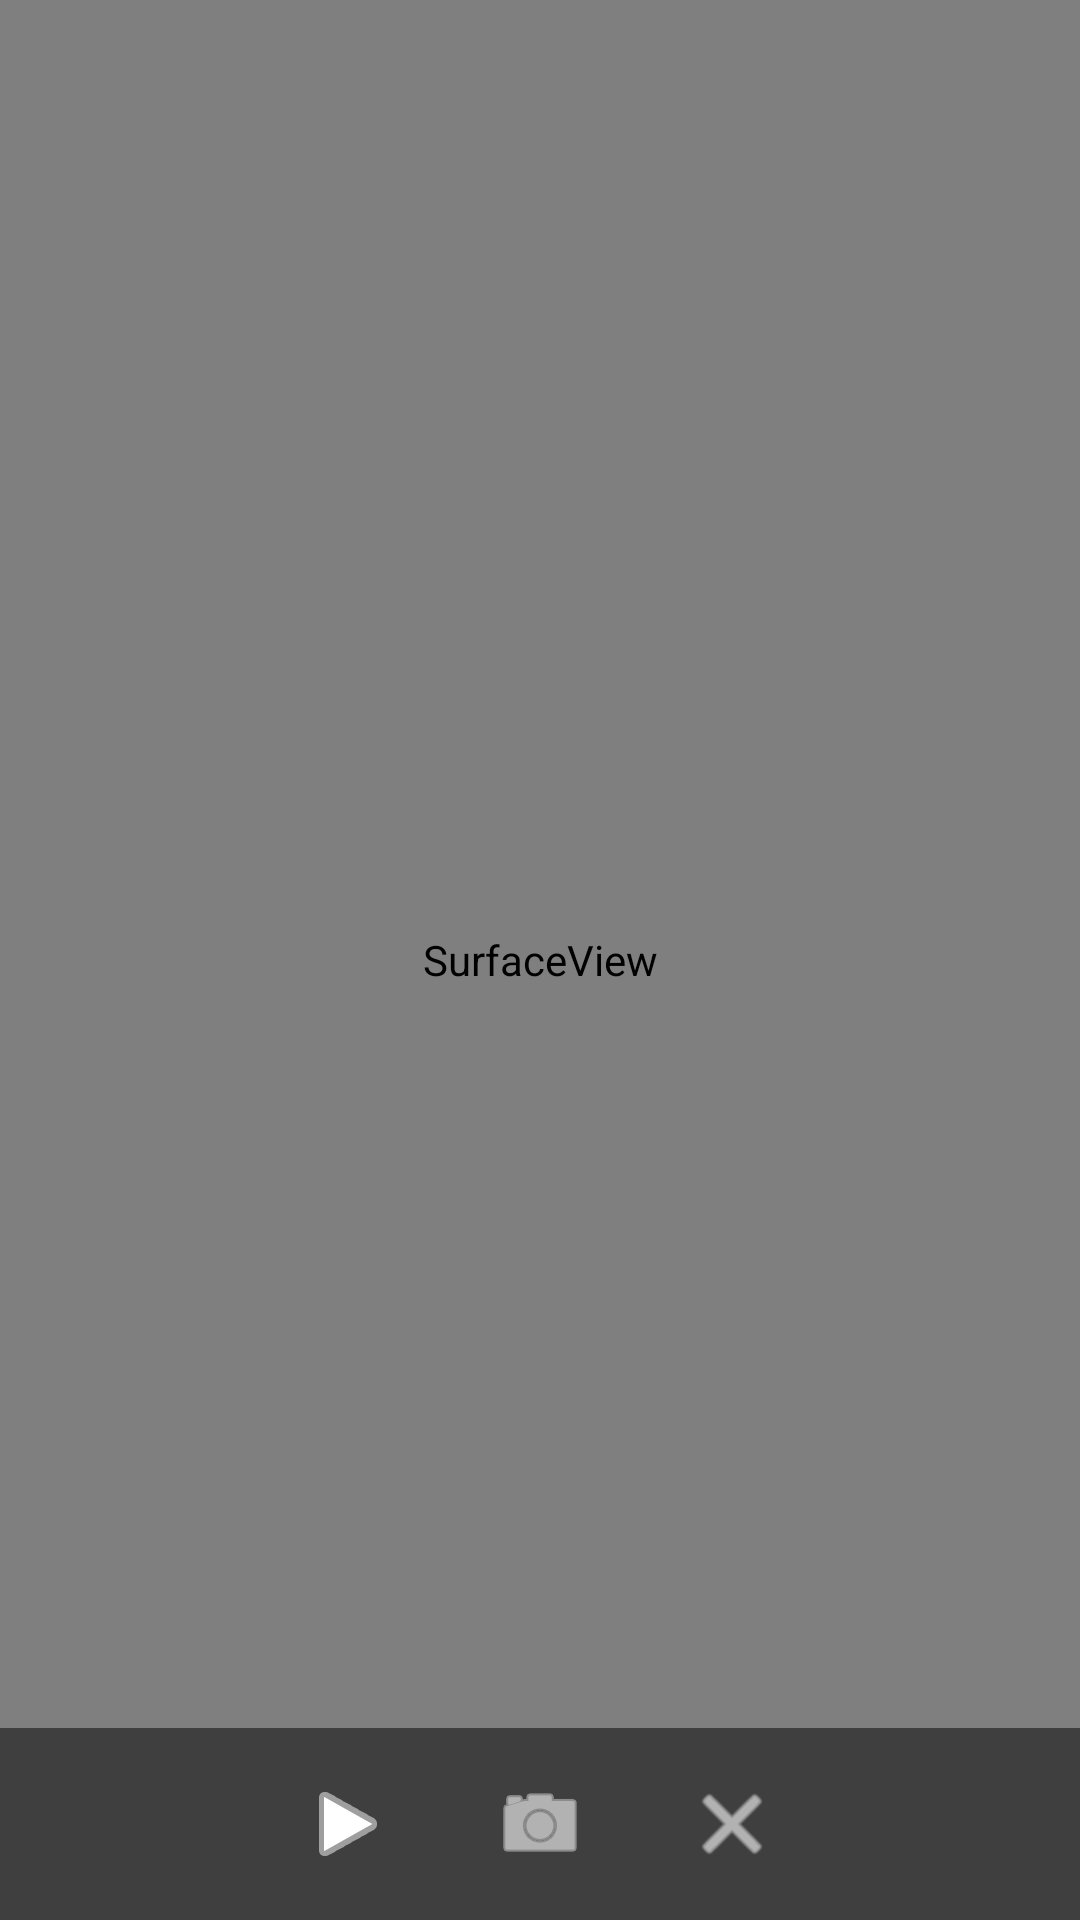

Screen size 1080×1920. Icon name, then its box in pixels as [left=x1, top=y1, right=x2, bottom=y2]:
camera: [left=503, top=1793, right=577, bottom=1852]
close clear cancel: [left=702, top=1794, right=762, bottom=1854]
play: [left=319, top=1792, right=377, bottom=1856]
